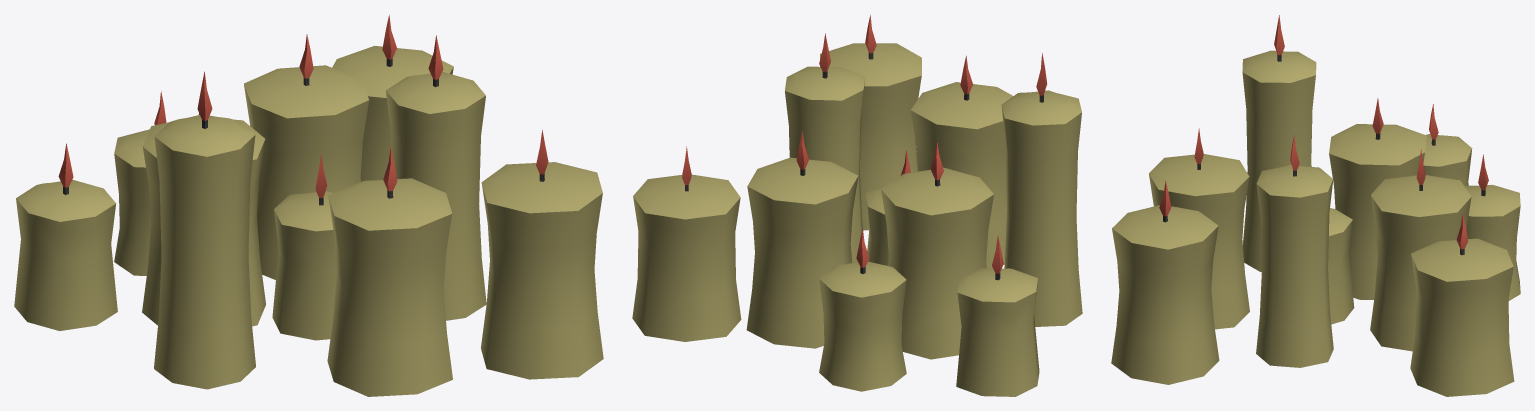
File: quaternius-ultimate-modular-ruins-candles-2.glb
3 renders of one model, left to right at view 1: azimuth 30°, elevation 25°; view 2: azimuth 150°, elevation 25°; view 3: azimuth 270°, elevation 25°, orthographic. The views are drawn at different scales.
Parts seen in each view (by area): view 1: Candles_2; view 2: Candles_2; view 3: Candles_2.
Boxes of the visible parts, <box> form: Candles_2: <box>14,15,603,396</box>; Candles_2: <box>632,14,1082,396</box>; Candles_2: <box>1111,15,1520,396</box>.
Bounding box in the file's own units: 0.9931 × 0.6458 × 0.9861.
